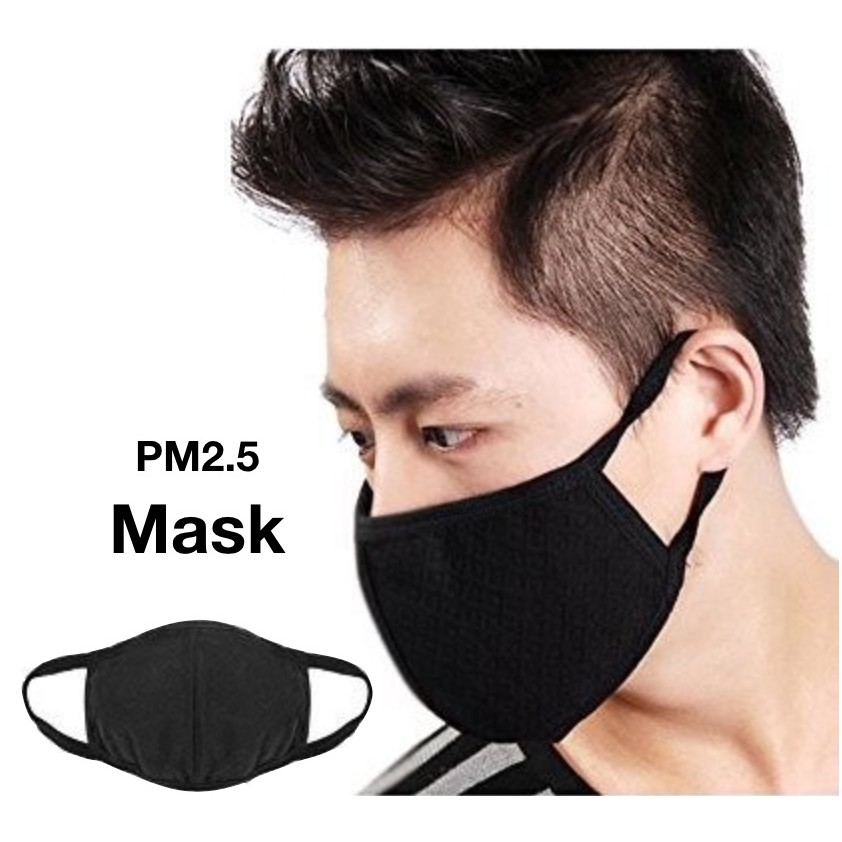Mask: (304, 196, 741, 751)
